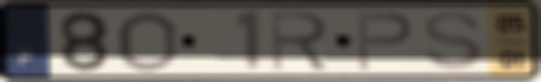1: (230, 8, 264, 75)
8: (57, 9, 111, 75)
O: (115, 9, 180, 74)
P: (353, 10, 416, 73)
R: (267, 9, 333, 73)
S: (419, 9, 486, 73)
